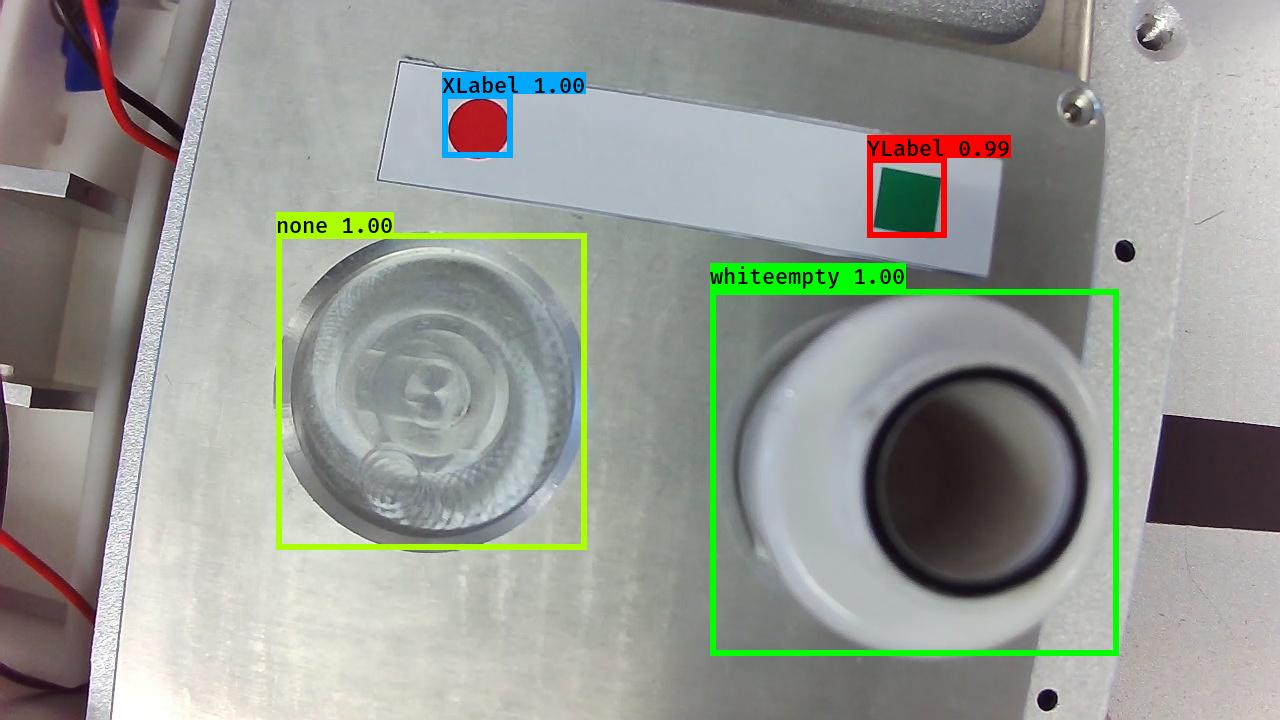XLabel: (445, 93, 513, 162)
YLabel: (870, 163, 942, 241)
none: (269, 223, 596, 556)
whiteempty: (732, 275, 1111, 660)
